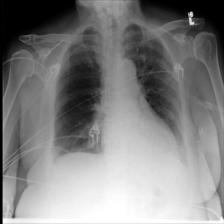normal: (45, 20, 195, 174)
